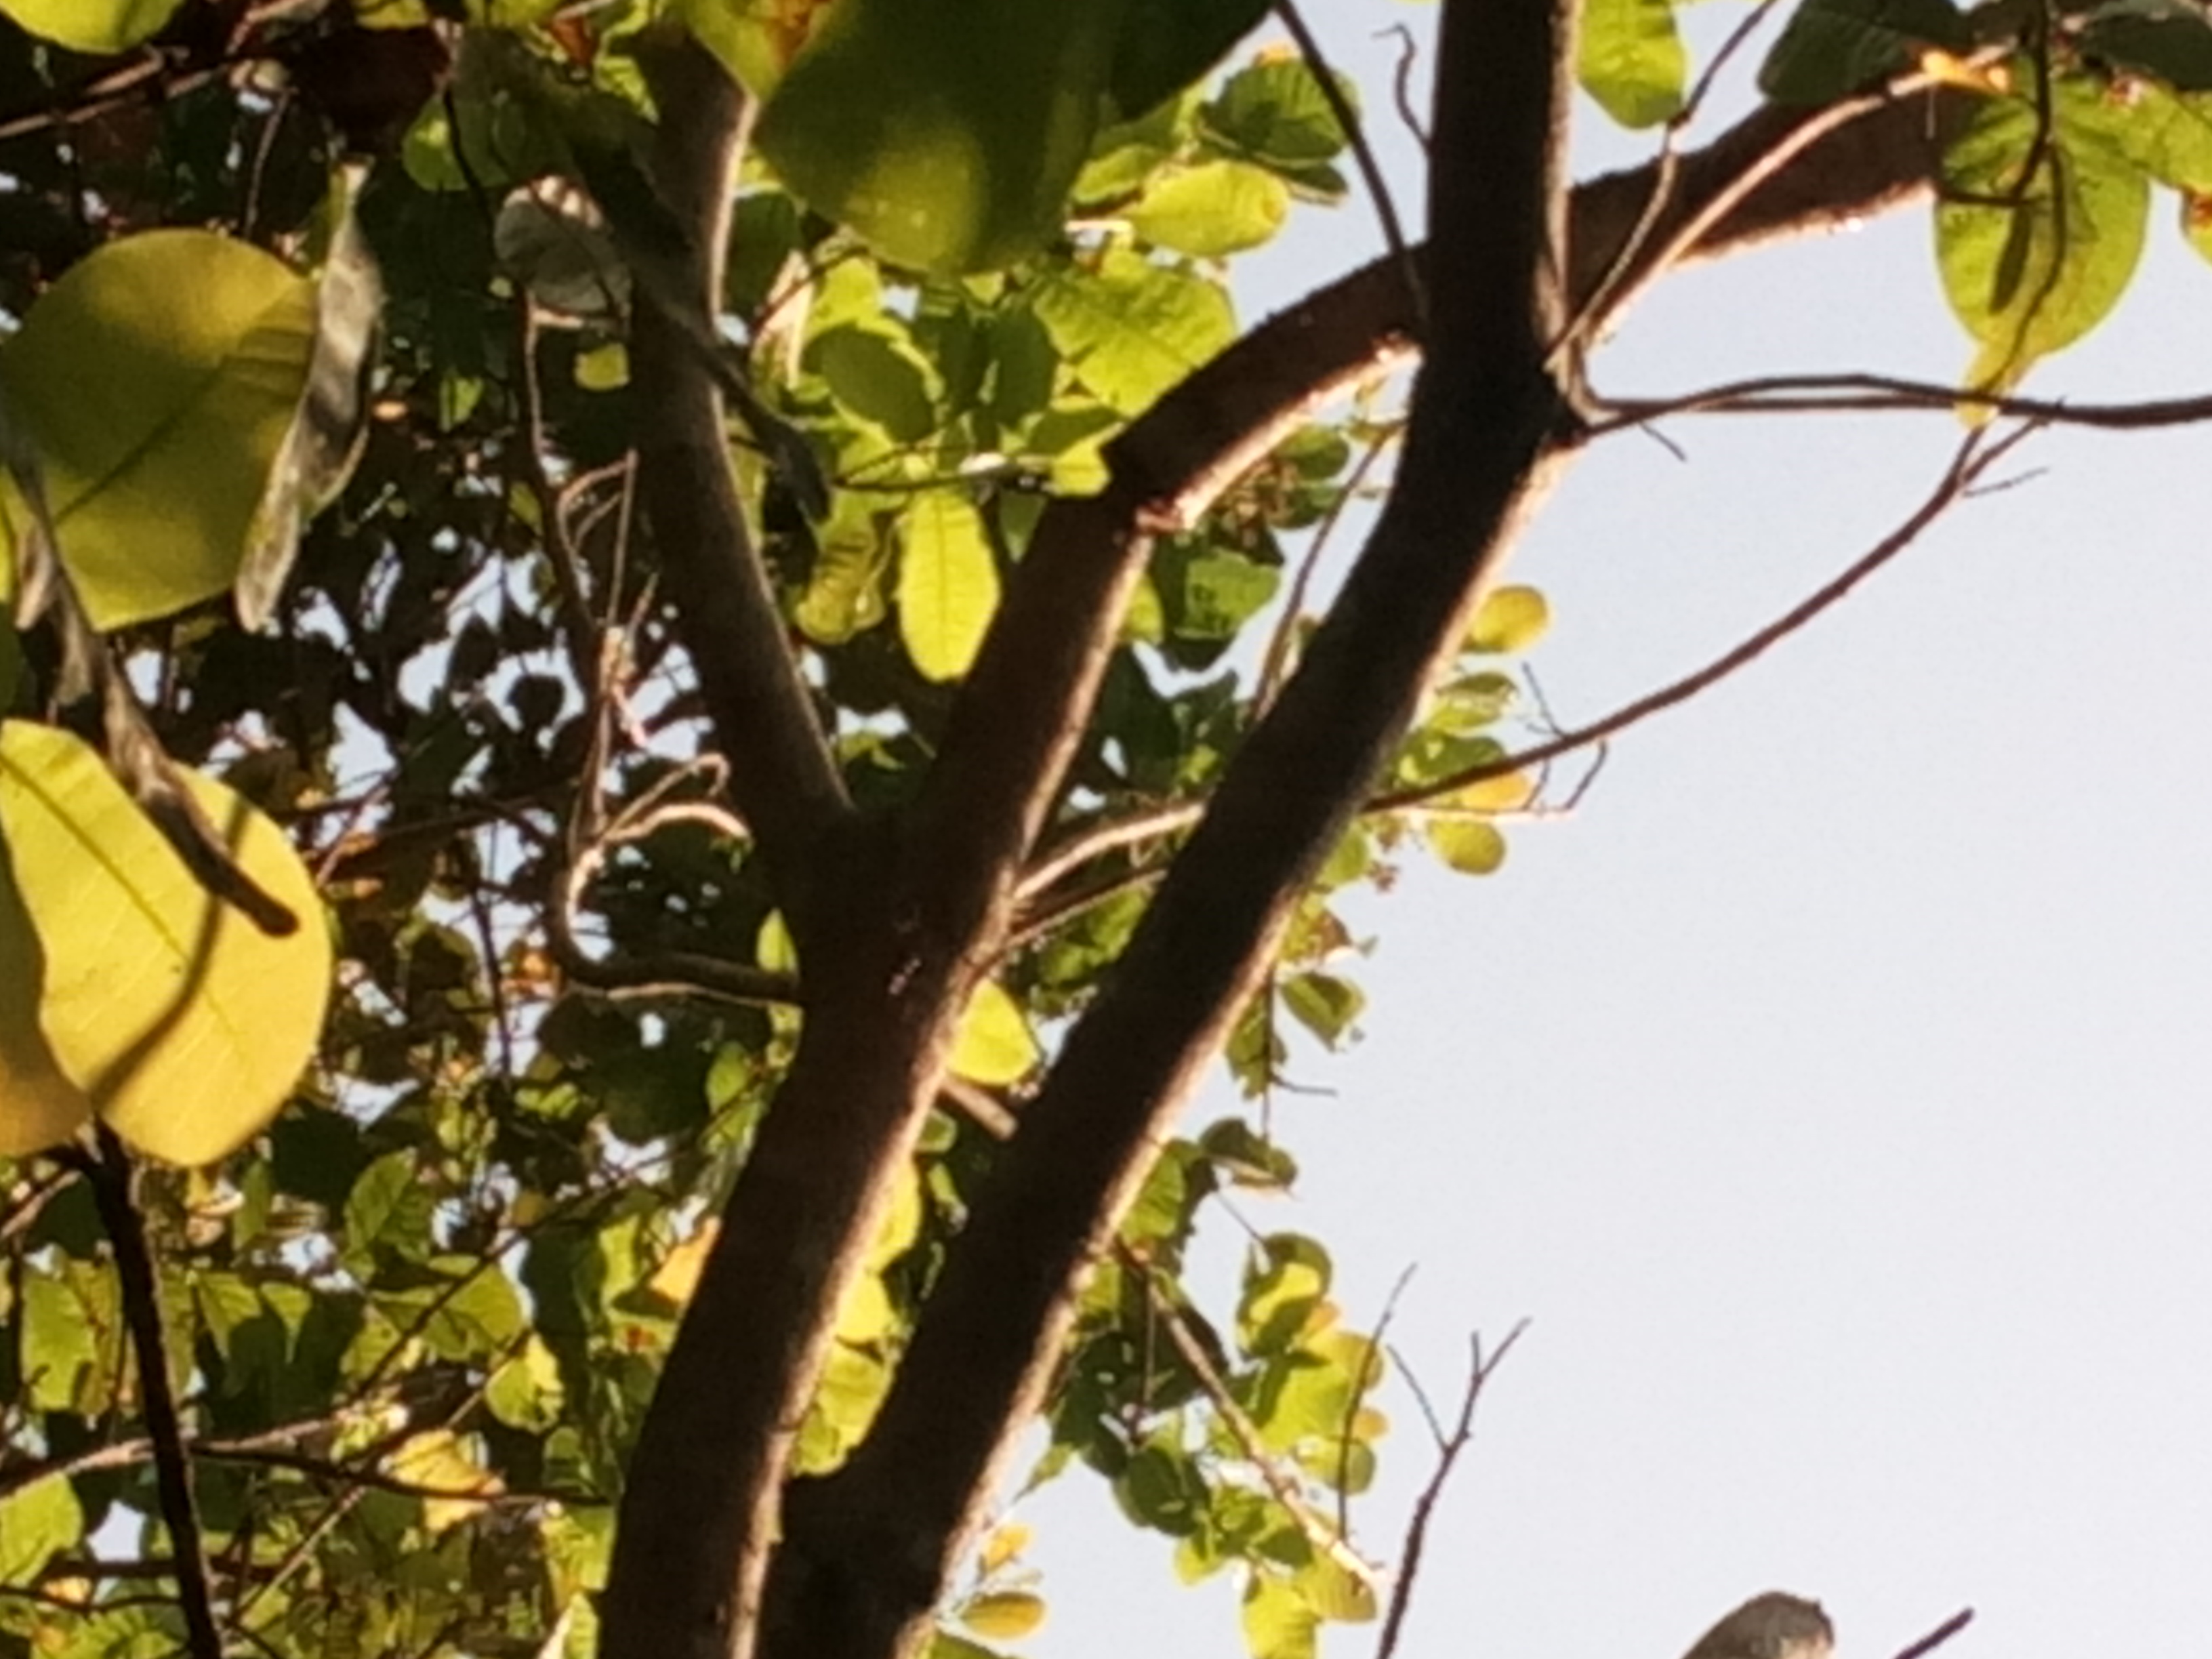Analepse trifasciata: (1015, 425, 1242, 570)
